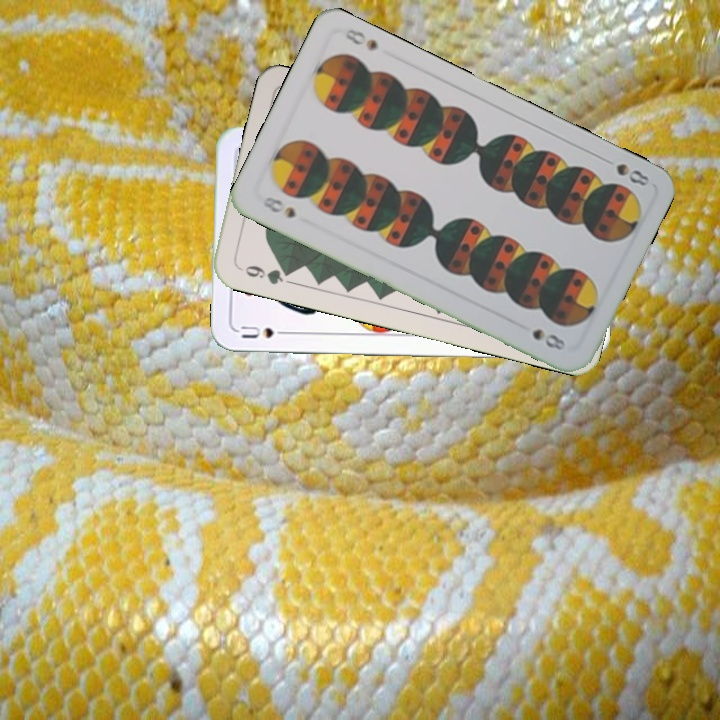G9: (241, 261, 295, 287)
S8: (597, 153, 652, 189), (258, 192, 298, 221)
SU: (237, 321, 294, 341)
